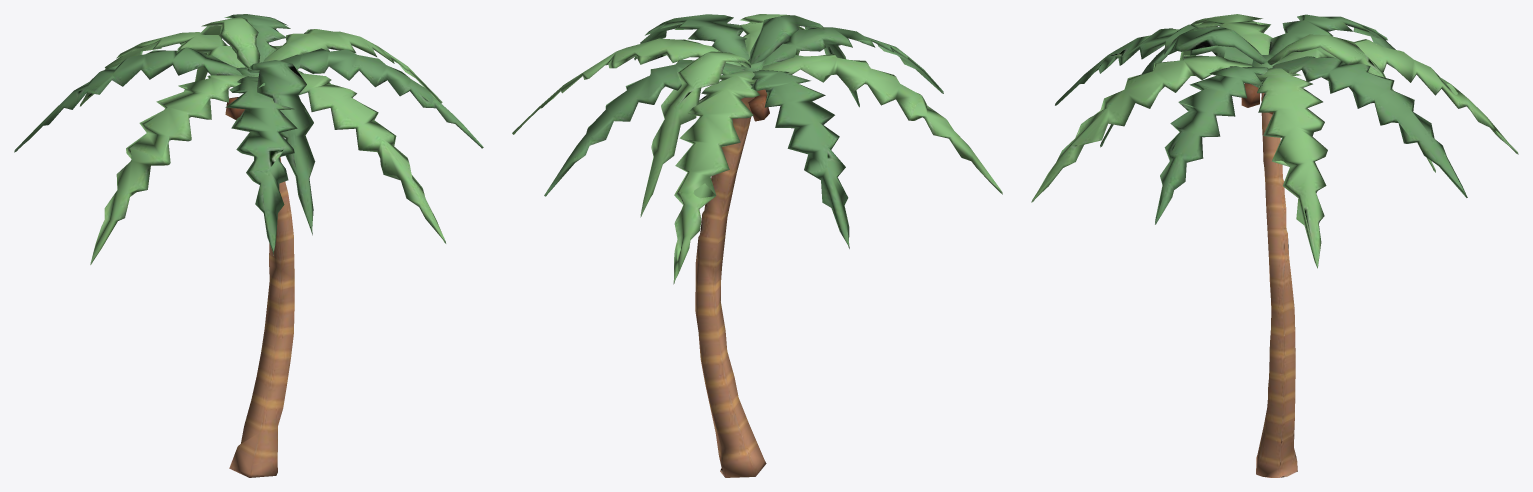
Rendered from palm-tree.glb.
The picture shows the model from 3 angles, left to right: view 1: azimuth 30°, elevation 25°; view 2: azimuth 150°, elevation 25°; view 3: azimuth 270°, elevation 25°; orthographic projection.
Parts seen in each view (by area): view 1: palm-tree_body; view 2: palm-tree_body; view 3: palm-tree_body.
Boxes of the visible parts, x1,y1,x2,y2 form: palm-tree_body: [14, 14, 483, 477]; palm-tree_body: [512, 14, 1002, 477]; palm-tree_body: [1031, 14, 1518, 477].
Bounding box in the file's own units: 5.17 × 5.06 × 5.18.
1 material, 1 textured.
